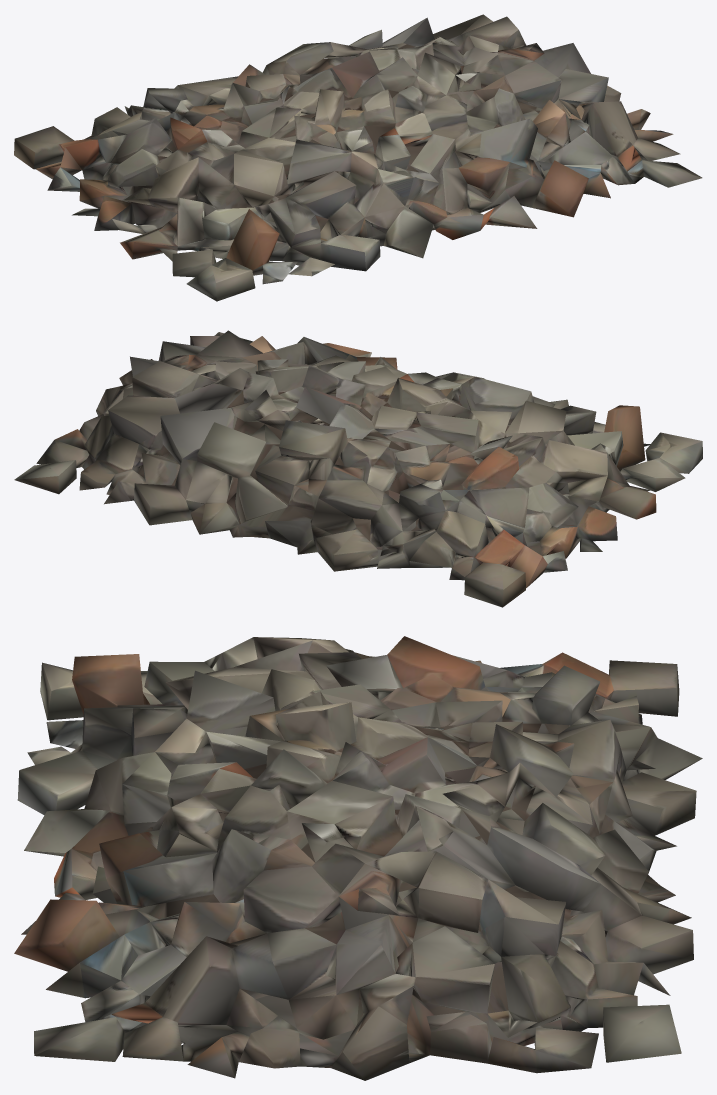
The model's file is gnd_urban_rubble.fbx.
3 renders of one model, top to bottom at view 1: azimuth 30°, elevation 25°; view 2: azimuth 150°, elevation 25°; view 3: azimuth 270°, elevation 25°, orthographic. The views are drawn at different scales.
Visible parts, largest first — view 1: gnd_urban_rubble_LOD0; view 2: gnd_urban_rubble_LOD0; view 3: gnd_urban_rubble_LOD0.
Part boxes in pixels (left/top/right/bottom): gnd_urban_rubble_LOD0: left=14, top=14, right=702, bottom=301; gnd_urban_rubble_LOD0: left=14, top=330, right=702, bottom=607; gnd_urban_rubble_LOD0: left=14, top=636, right=702, bottom=1080.
Size of what is drawn, in the model's own units: 0.9324 by 0.1684 by 0.6599.
